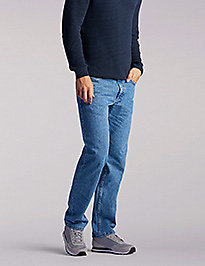jeans: (65, 69, 127, 230)
